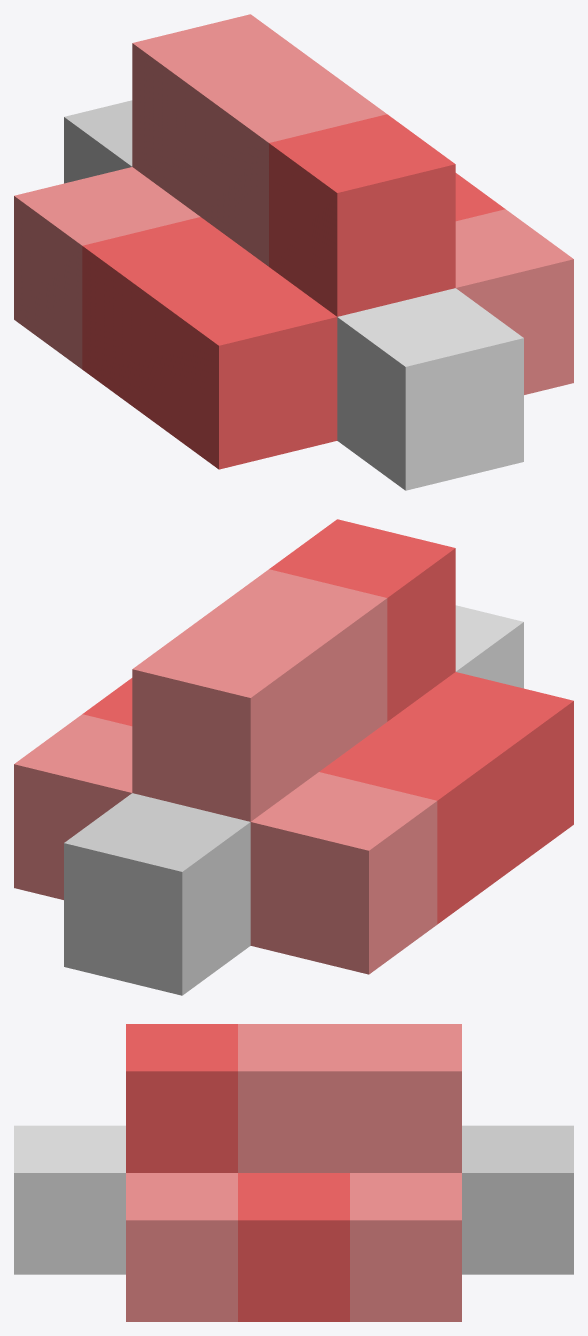
The model's file is meat_chunk_scnd.obj.
3 views of the same model, one above another, from view 1: azimuth 30°, elevation 25°; view 2: azimuth 150°, elevation 25°; view 3: azimuth 270°, elevation 25° (orthographic). The views are drawn at different scales.
Visible parts, largest first — view 1: meat_chunk_scnd; view 2: meat_chunk_scnd; view 3: meat_chunk_scnd.
Boxes of the visible parts, left/top/right/bottom form: meat_chunk_scnd: left=14, top=14, right=573, bottom=490; meat_chunk_scnd: left=14, top=519, right=573, bottom=995; meat_chunk_scnd: left=14, top=1024, right=573, bottom=1321.
Size of the model in its own units: 3 by 2 by 5.
Materials: 1 (1 with a texture image).
